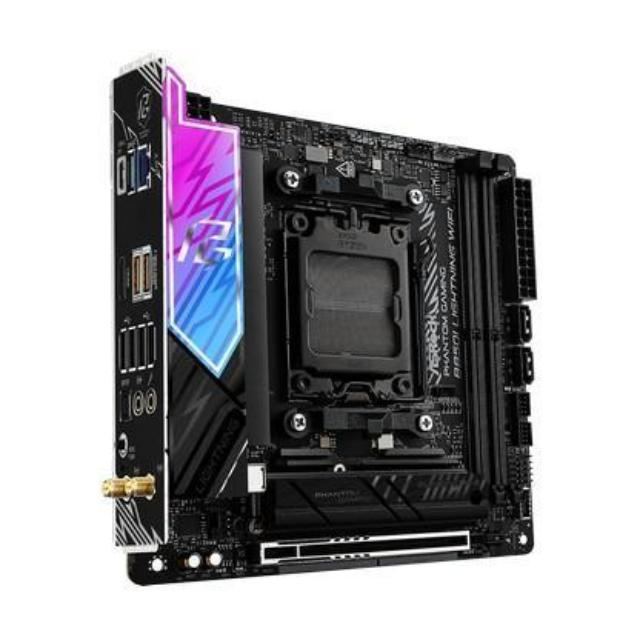Mainboard: (106, 54, 551, 592)
